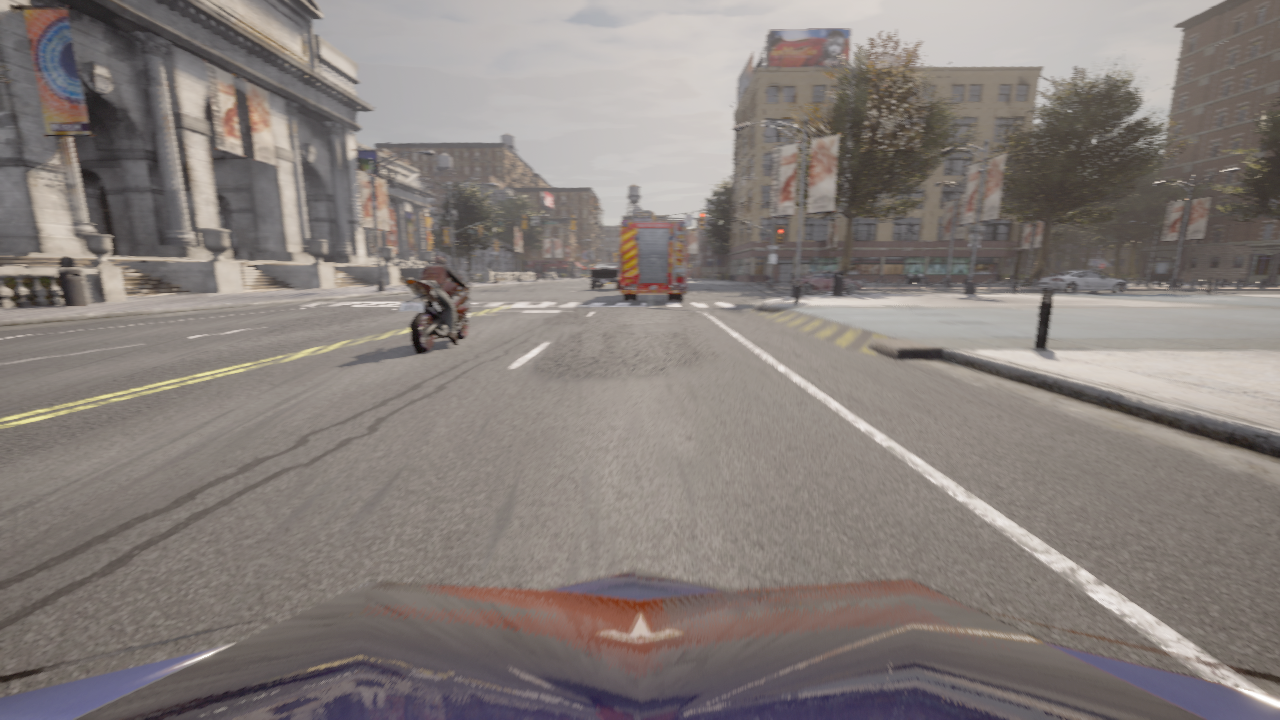cyclist: (0, 569, 1279, 719), (399, 274, 476, 353), (620, 210, 687, 300), (1037, 270, 1127, 293), (791, 271, 861, 293), (589, 262, 620, 289)
